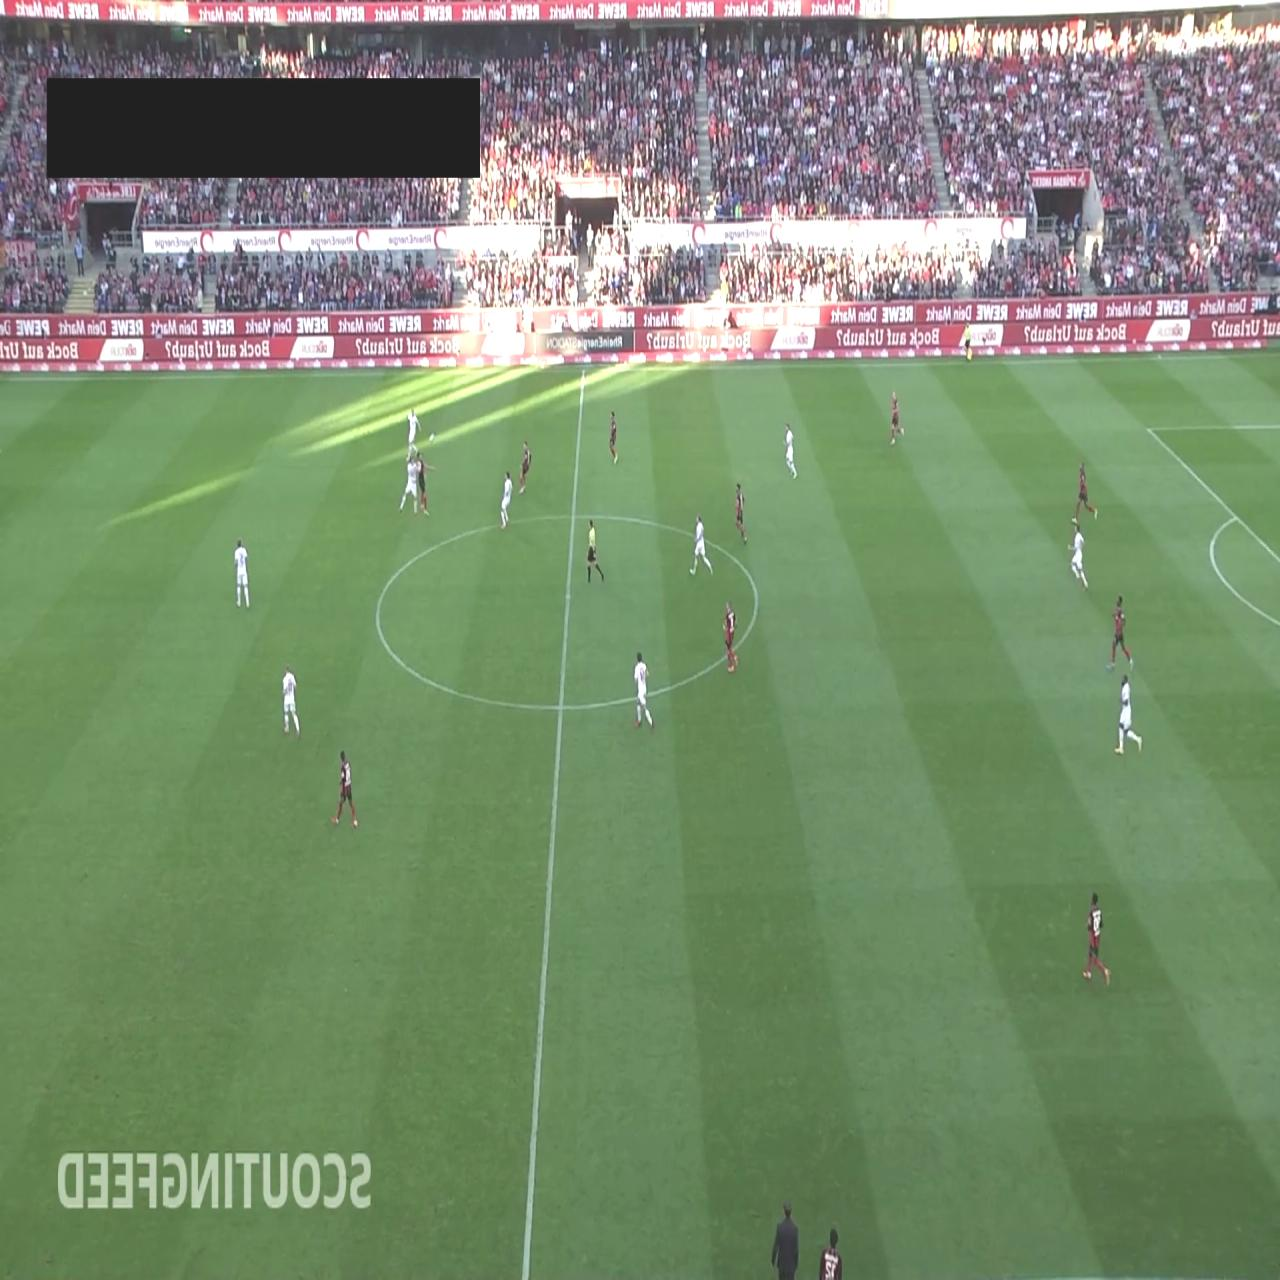ball: (428, 431, 434, 444)
player: (1082, 890, 1111, 987), (1112, 672, 1142, 756), (333, 749, 358, 830), (1106, 595, 1132, 671), (633, 651, 654, 730), (1073, 461, 1097, 526), (690, 514, 714, 576), (282, 662, 301, 738), (1068, 519, 1088, 590), (399, 450, 420, 516), (818, 1226, 843, 1278), (234, 537, 250, 609), (723, 601, 737, 672), (416, 455, 432, 517), (499, 469, 514, 530), (889, 391, 905, 446), (783, 421, 798, 479), (735, 482, 747, 544), (518, 440, 531, 493), (406, 408, 421, 452), (609, 410, 618, 465)
referee: (586, 518, 604, 584), (961, 324, 972, 362)
